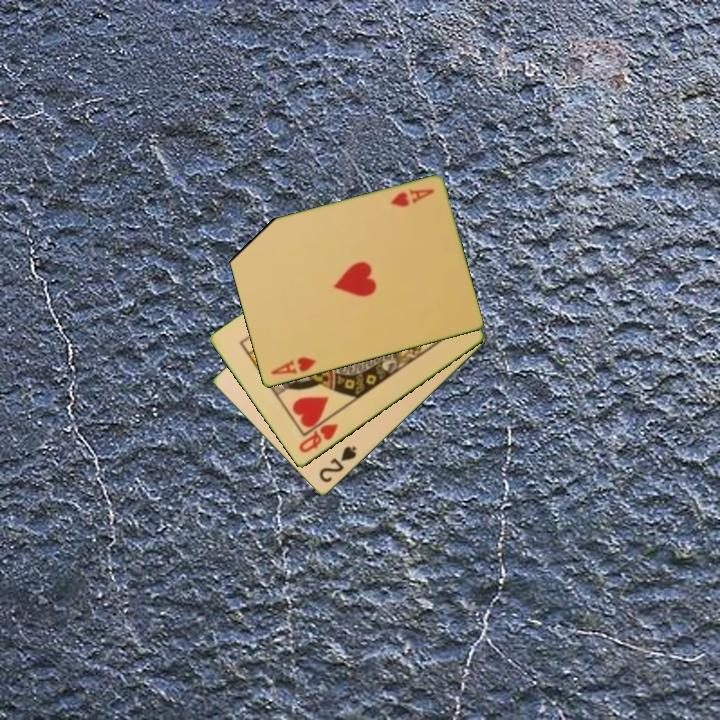2s: (315, 442, 360, 486)
Ah: (267, 354, 319, 378), (387, 186, 437, 210)
Qh: (295, 420, 341, 456)
